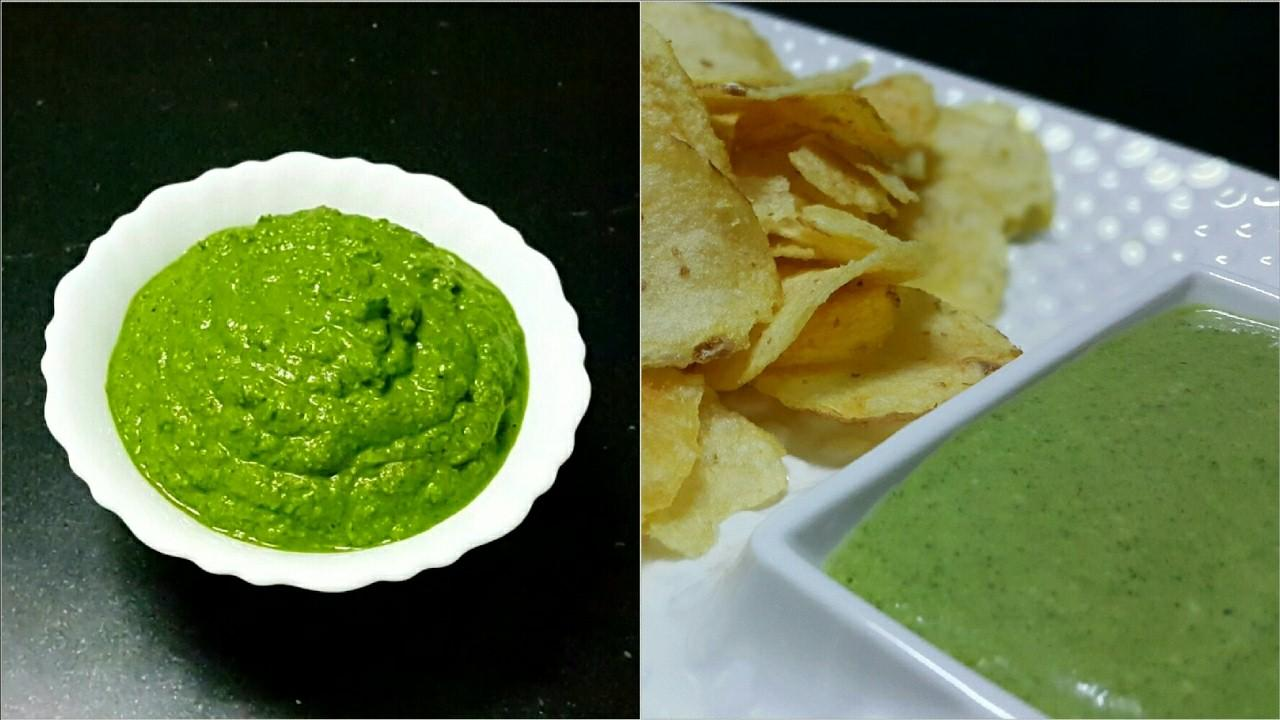GreenChutney: (826, 299, 1280, 720), (104, 204, 528, 551)
